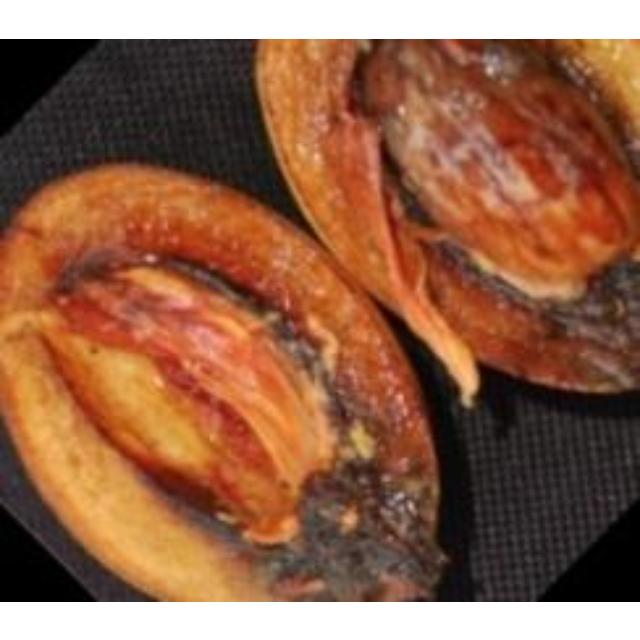damaged: (0, 161, 451, 599), (254, 38, 637, 397)
